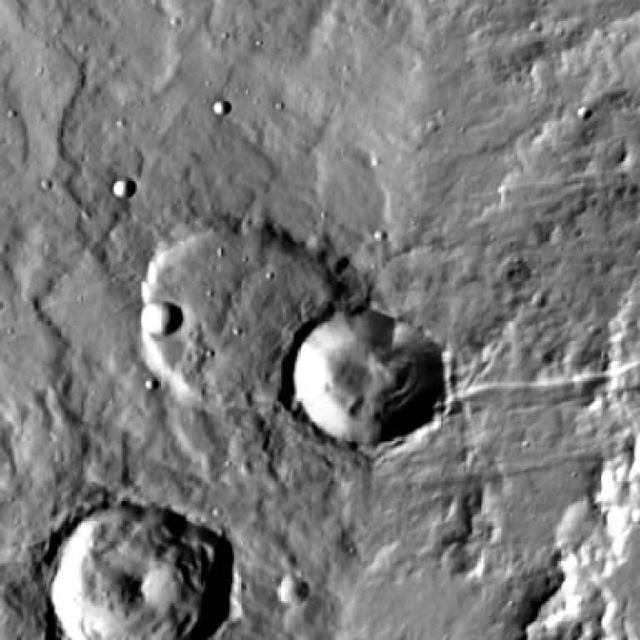crater: (141, 215, 364, 414), (38, 497, 222, 640), (274, 301, 431, 441), (142, 296, 182, 332), (278, 577, 308, 605), (112, 180, 136, 203), (212, 97, 232, 115)
